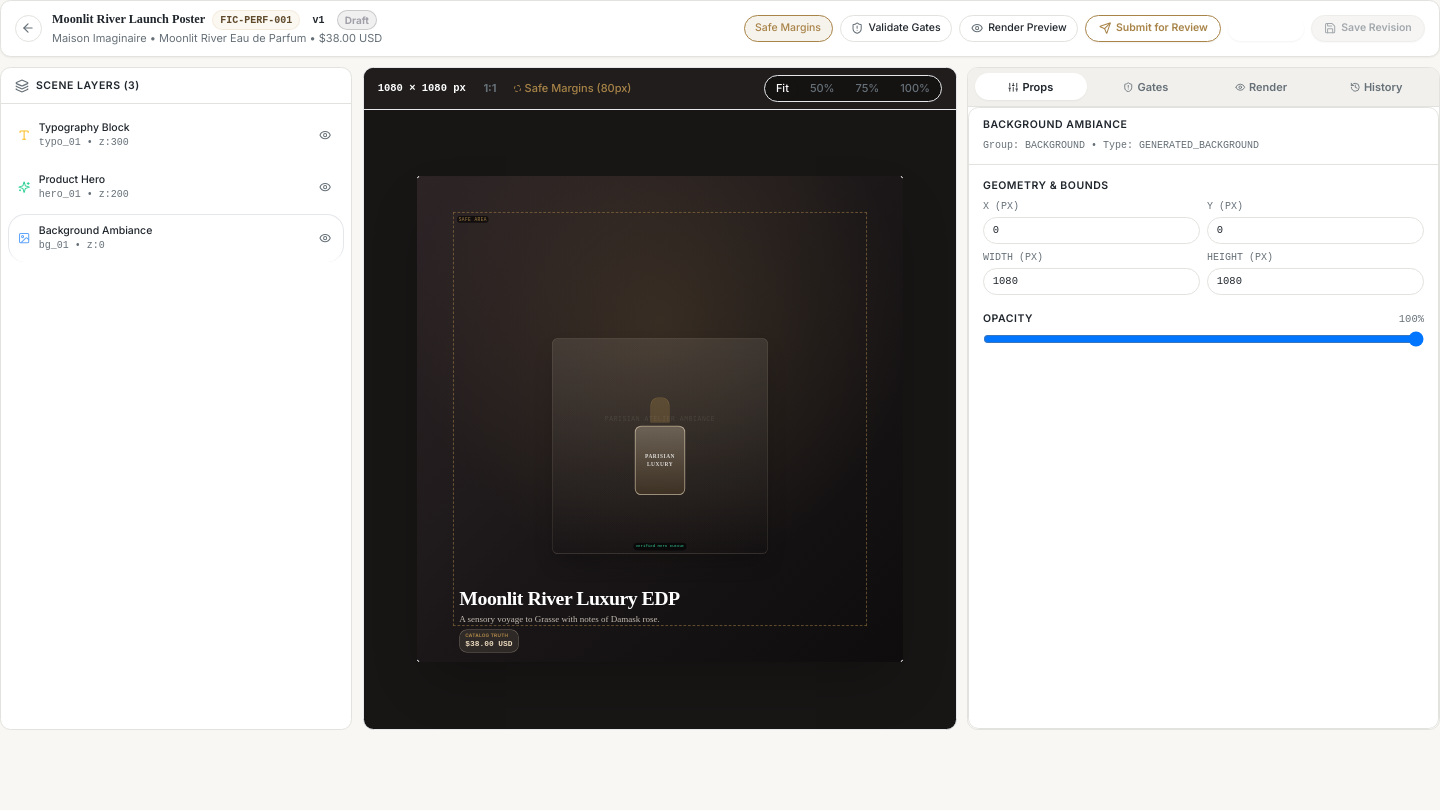
Test: Creative Studio Editor Workstation (WEB-CREATIVE-05 to WEB-CREATIVE-12) › WEB-CREATIVE-07: selecting a layer in Layers panel opens and highlights layer properties
The image size is (1440, 810).
Expected: the text "Typography Block" is shown, [39,121,130,135]
What coordinates should you click on to do the following:
click the element with test id "layer-item-typo_01"
I would click on:
 (84, 127)
Its box is [18,121,334,148].
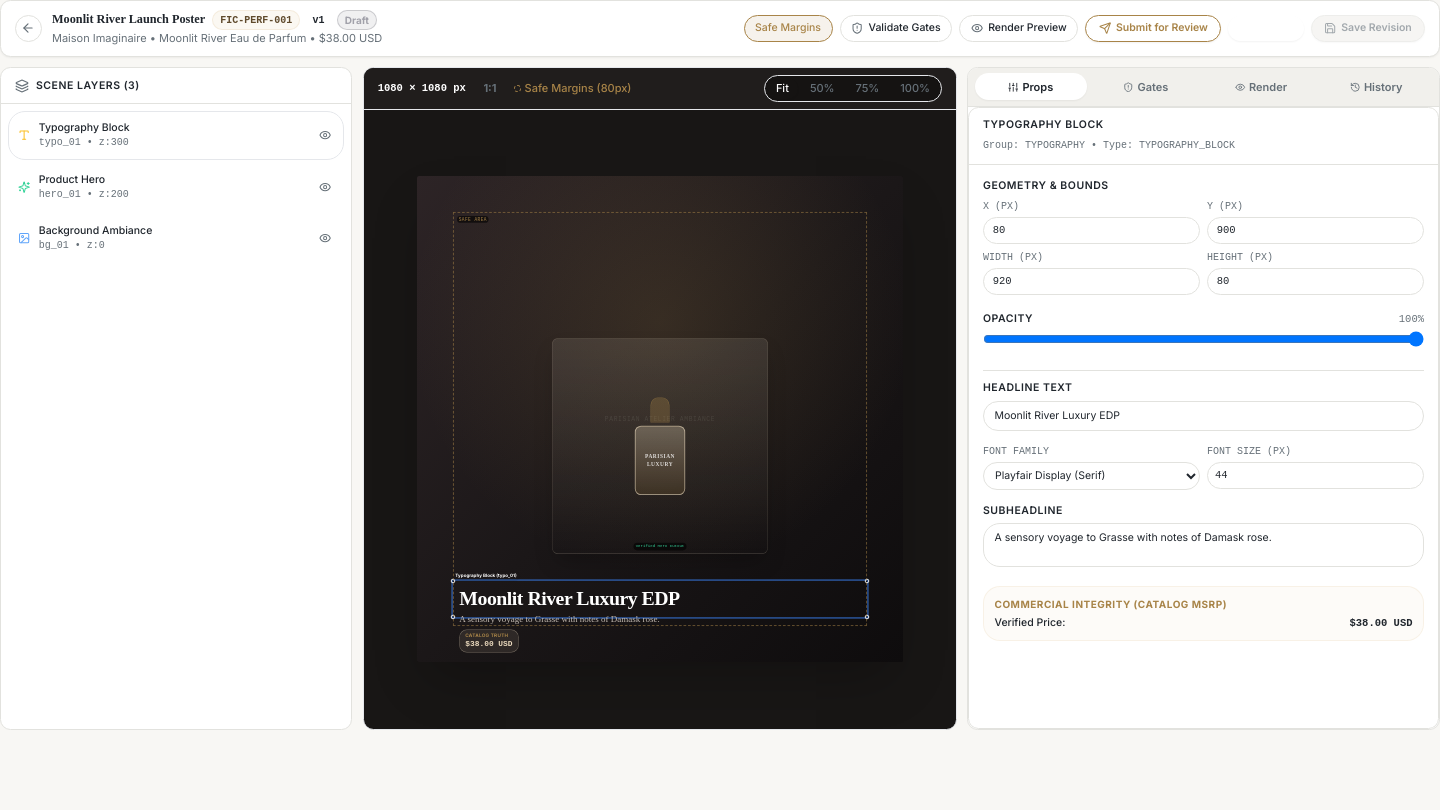
Expected: the text "Headline Text" is shown, [983,381,1072,394]
Expected: the field showing "Moonlit River Luxury EDP" is shown, [983,400,1424,430]
